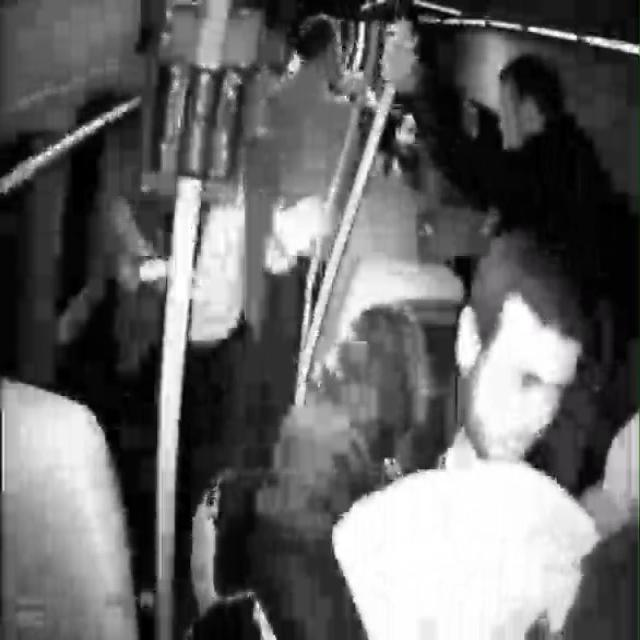fight: (323, 189, 612, 640)
